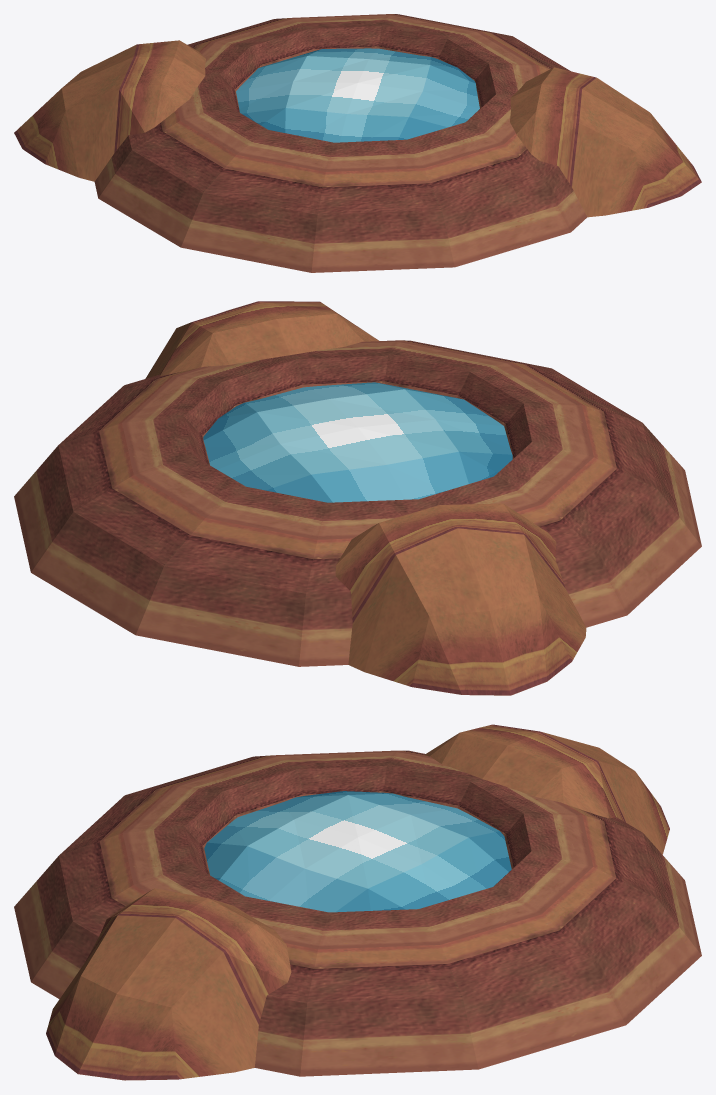
3 views of the same model, one above another, from view 1: azimuth 30°, elevation 25°; view 2: azimuth 150°, elevation 25°; view 3: azimuth 270°, elevation 25° (orthographic). The views are drawn at different scales.
Parts seen in each view (by area): view 1: transpad; view 2: transpad; view 3: transpad.
Part boxes in pixels (x1=…): transpad: x1=14, y1=14, x2=701, y2=272; transpad: x1=14, y1=301, x2=701, y2=695; transpad: x1=14, y1=724, x2=701, y2=1080.
Size of what is drawn, in the model's own units: 10.62 by 1.82 by 10.35.
Materials: 3 (3 with a texture image).
